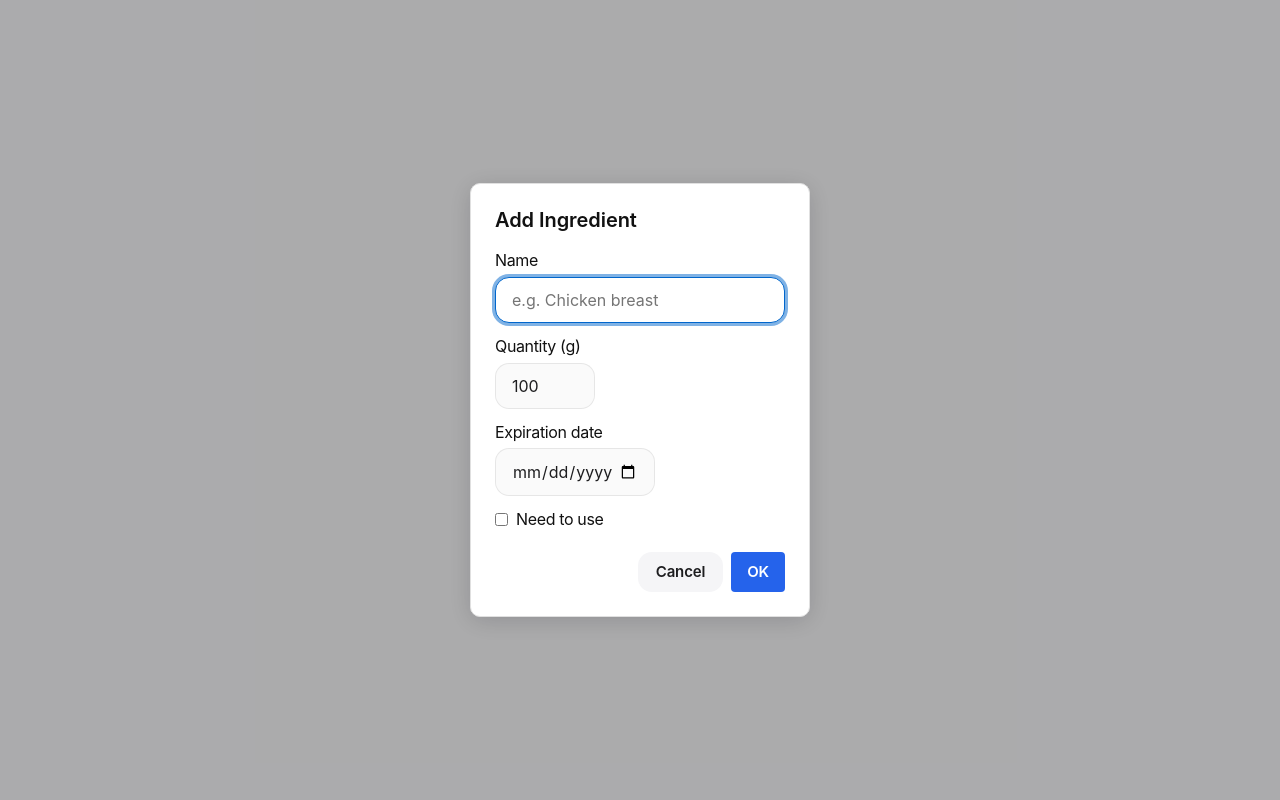
Test: FridgeItemModal › shows validation error when name is empty
Click the button "OK".
click(758, 572)  # box [731, 552, 785, 592]
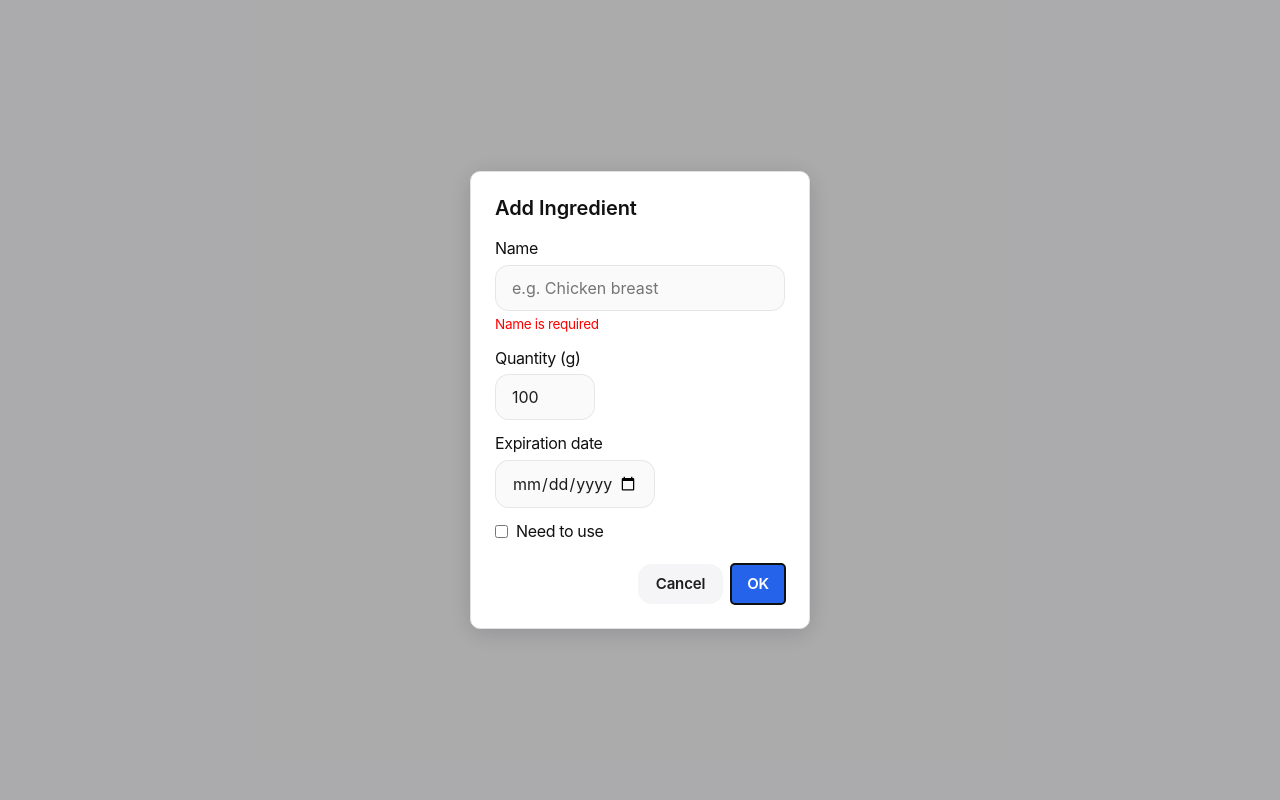
Check: the text "Name is required" is shown, box [495, 316, 599, 332]
